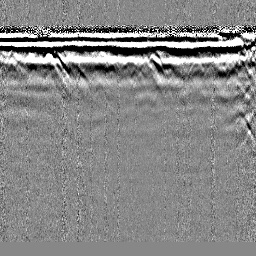cavity: (122, 55, 138, 69)
